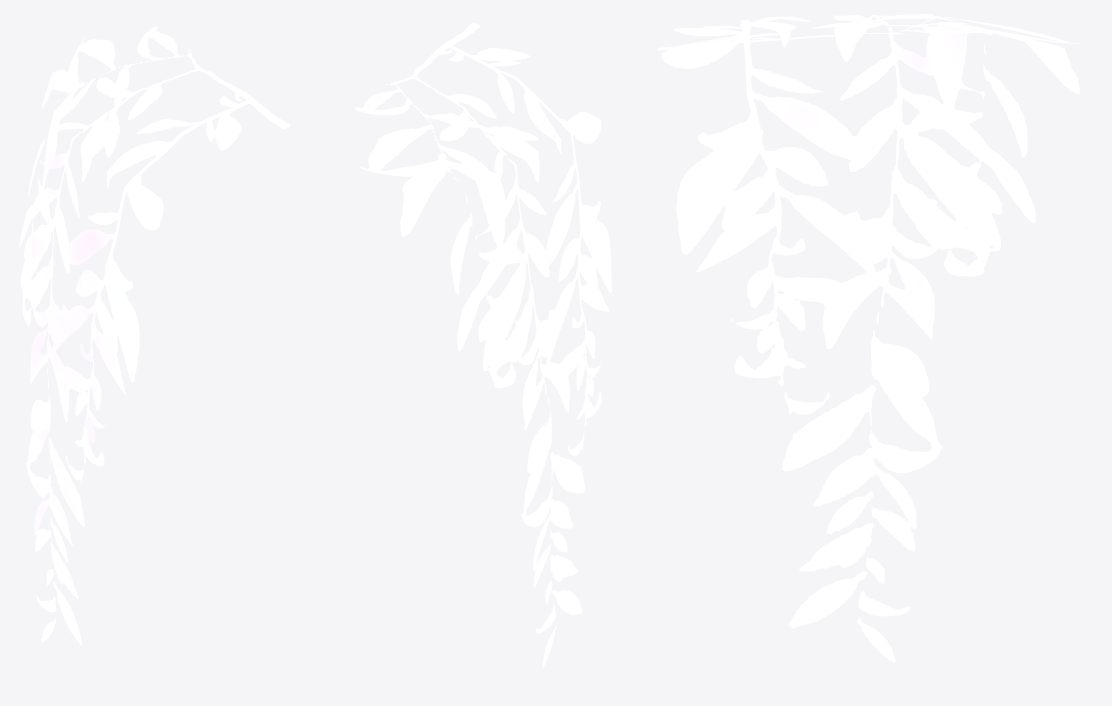
The picture shows the model from 3 angles, left to right: view 1: azimuth 30°, elevation 25°; view 2: azimuth 150°, elevation 25°; view 3: azimuth 270°, elevation 25°; orthographic projection. The views are drawn at different scales.
Parts seen in each view (by area): view 1: SM_FH_Climbing_A_02_LOD0; view 2: SM_FH_Climbing_A_02_LOD0; view 3: SM_FH_Climbing_A_02_LOD0.
Boxes of the visible parts, x1,y1,x2,y2 form: SM_FH_Climbing_A_02_LOD0: (19, 26, 290, 645); SM_FH_Climbing_A_02_LOD0: (355, 22, 611, 667); SM_FH_Climbing_A_02_LOD0: (657, 14, 1079, 662).
Bounding box in the file's own units: 0.4488 × 1.45 × 0.7909.
